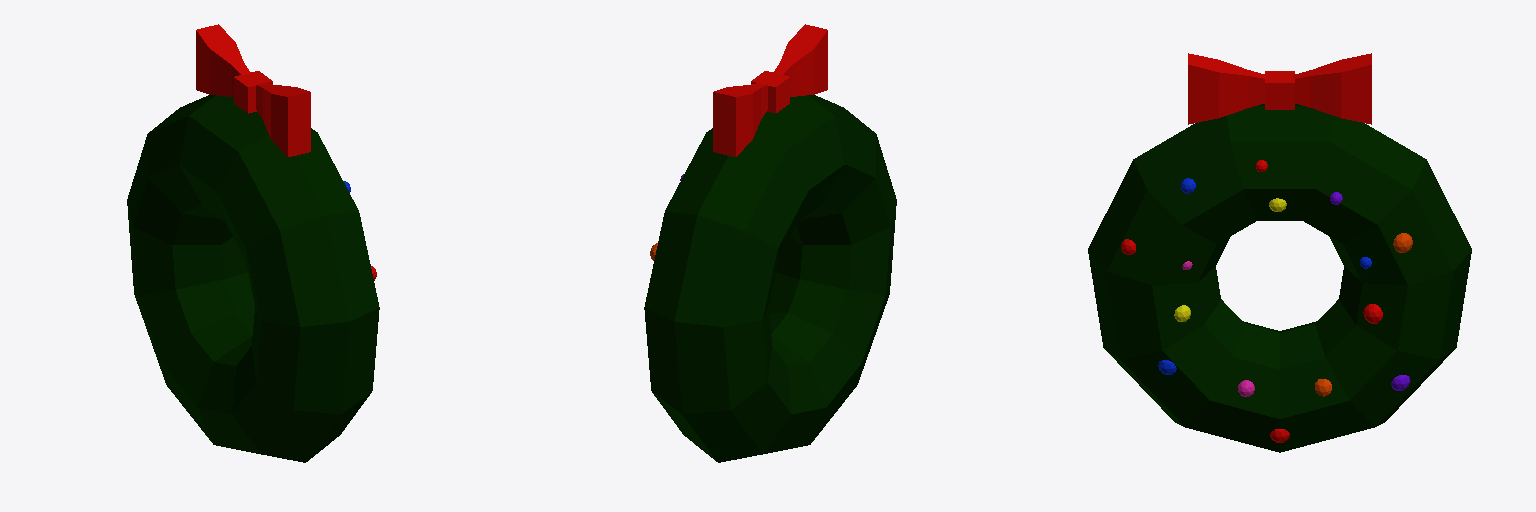
Rendered from ChristmasCrown.obj.
3 views of the same model, side by side, from view 1: azimuth 30°, elevation 25°; view 2: azimuth 150°, elevation 25°; view 3: azimuth 270°, elevation 25° (orthographic).
Visible parts, largest first — view 1: Torus_Material.001, Cube_Material.002, Cube.001_Material.002; view 2: Torus_Material.001, Cube_Material.002, Cube.001_Material.002; view 3: Torus_Material.001, Cube_Material.002, Cube.001_Material.002.
Part boxes in pixels (left/top/right/bottom): Torus_Material.001: left=127, top=95, right=379, bottom=462; Cube_Material.002: left=196, top=24, right=310, bottom=156; Cube.001_Material.002: left=234, top=71, right=272, bottom=113; Torus_Material.001: left=644, top=95, right=896, bottom=462; Cube_Material.002: left=713, top=24, right=827, bottom=156; Cube.001_Material.002: left=751, top=71, right=789, bottom=113; Torus_Material.001: left=1088, top=104, right=1471, bottom=452; Cube_Material.002: left=1188, top=53, right=1371, bottom=124; Cube.001_Material.002: left=1265, top=71, right=1294, bottom=109.
Bounding box in the file's own units: 0.5233 × 1.67 × 1.48.